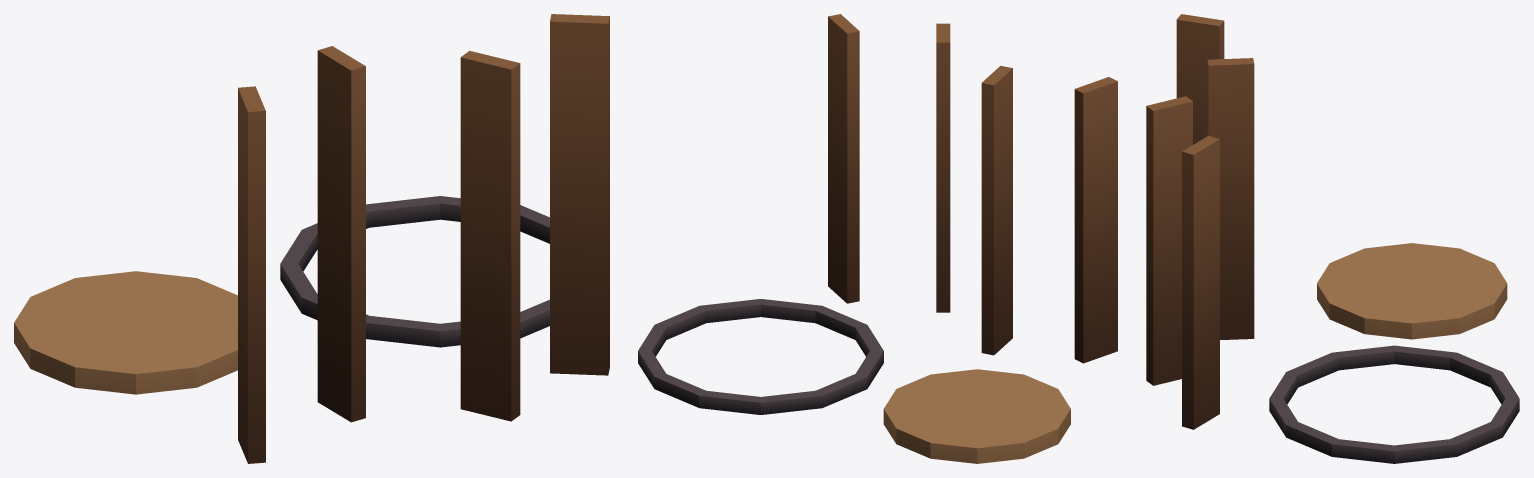
The model's file is PlayGround_Kit_Barrel_Broken.fbx.
3 renders of one model, left to right at view 1: azimuth 30°, elevation 25°; view 2: azimuth 150°, elevation 25°; view 3: azimuth 270°, elevation 25°, orthographic. The views are drawn at different scales.
Visible parts, largest first — view 1: PlayGround_Kit_Barrel_Broken_6, PlayGround_Kit_Barrel_Broken_3, PlayGround_Kit_Barrel_Broken_4, PlayGround_Kit_Barrel_Broken_2, PlayGround_Kit_Barrel_Broken_1, PlayGround_Kit_Barrel_Broken_5; view 2: PlayGround_Kit_Barrel_Broken_6, PlayGround_Kit_Barrel_Broken_1, PlayGround_Kit_Barrel_Broken_5, PlayGround_Kit_Barrel_Broken_2, PlayGround_Kit_Barrel_Broken_4, PlayGround_Kit_Barrel_Broken_3; view 3: PlayGround_Kit_Barrel_Broken_6, PlayGround_Kit_Barrel_Broken_2, PlayGround_Kit_Barrel_Broken_4, PlayGround_Kit_Barrel_Broken_3, PlayGround_Kit_Barrel_Broken_5, PlayGround_Kit_Barrel_Broken_1.
Part boxes in pixels (x1=…): PlayGround_Kit_Barrel_Broken_6: x1=14, y1=271, x2=237, y2=394; PlayGround_Kit_Barrel_Broken_3: x1=460, y1=50, x2=520, y2=421; PlayGround_Kit_Barrel_Broken_4: x1=550, y1=14, x2=609, y2=375; PlayGround_Kit_Barrel_Broken_2: x1=317, y1=46, x2=365, y2=422; PlayGround_Kit_Barrel_Broken_1: x1=238, y1=86, x2=265, y2=463; PlayGround_Kit_Barrel_Broken_5: x1=280, y1=196, x2=549, y2=347; PlayGround_Kit_Barrel_Broken_6: x1=883, y1=369, x2=1070, y2=463; PlayGround_Kit_Barrel_Broken_1: x1=1074, y1=77, x2=1117, y2=363; PlayGround_Kit_Barrel_Broken_5: x1=638, y1=299, x2=883, y2=414; PlayGround_Kit_Barrel_Broken_2: x1=981, y1=65, x2=1012, y2=355; PlayGround_Kit_Barrel_Broken_4: x1=828, y1=14, x2=859, y2=303; PlayGround_Kit_Barrel_Broken_3: x1=936, y1=23, x2=950, y2=312; PlayGround_Kit_Barrel_Broken_6: x1=1317, y1=243, x2=1507, y2=339; PlayGround_Kit_Barrel_Broken_2: x1=1207, y1=58, x2=1254, y2=339; PlayGround_Kit_Barrel_Broken_4: x1=1182, y1=135, x2=1219, y2=429; PlayGround_Kit_Barrel_Broken_3: x1=1146, y1=96, x2=1192, y2=385; PlayGround_Kit_Barrel_Broken_5: x1=1269, y1=345, x2=1519, y2=463; PlayGround_Kit_Barrel_Broken_1: x1=1176, y1=14, x2=1224, y2=144.
Bounding box in the file's own units: 1.37 × 0.86 × 1.06.
